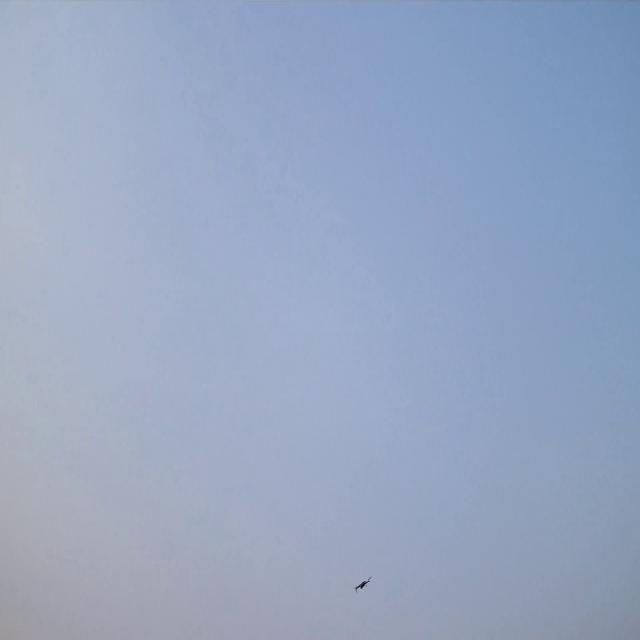drone: (354, 576, 372, 592)
